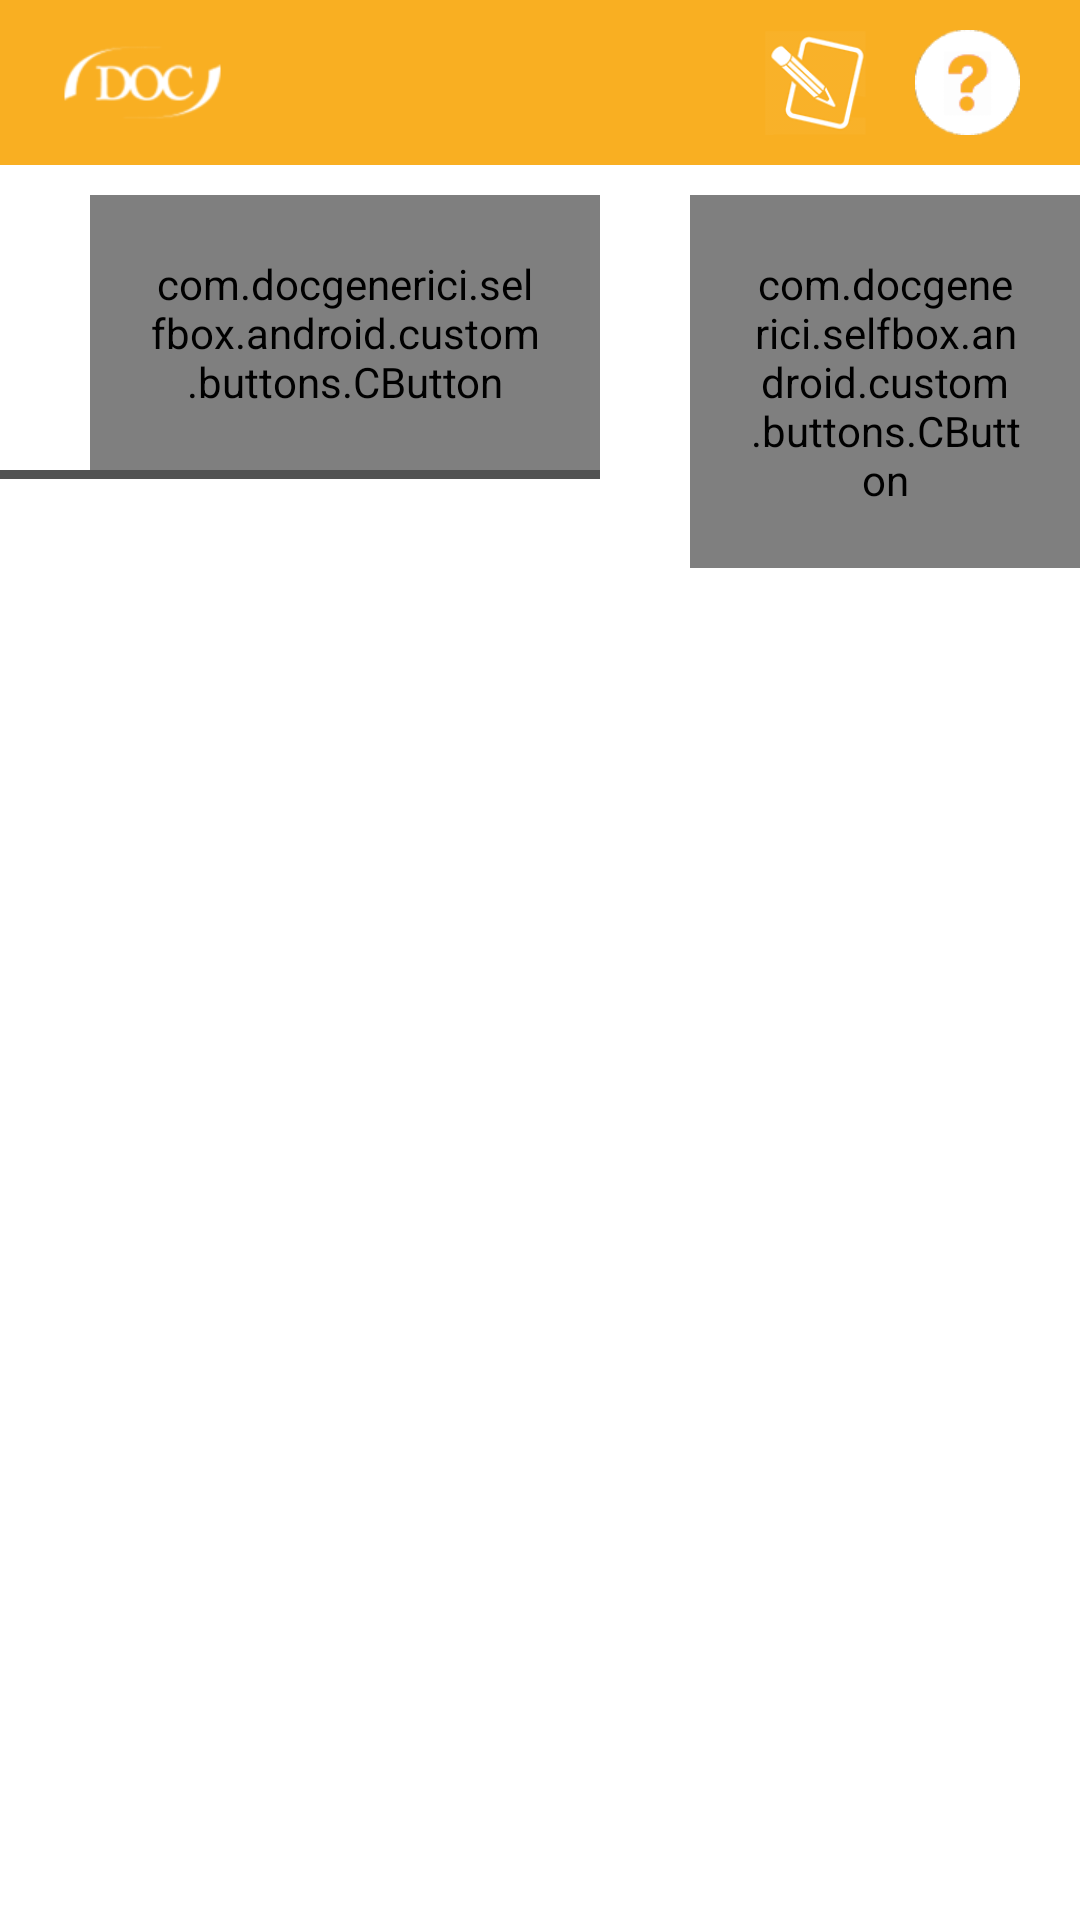

Named icons in this screenshot (1080px x 1920px) and their centers, point (x, y):
help contents: point (967, 82)
